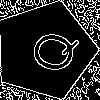Q: (20, 25, 81, 77)
